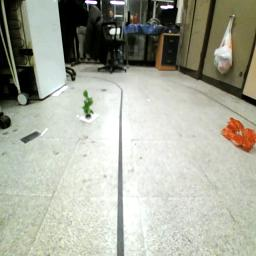herb: (82, 91, 97, 118)
wild: (221, 116, 256, 151)
